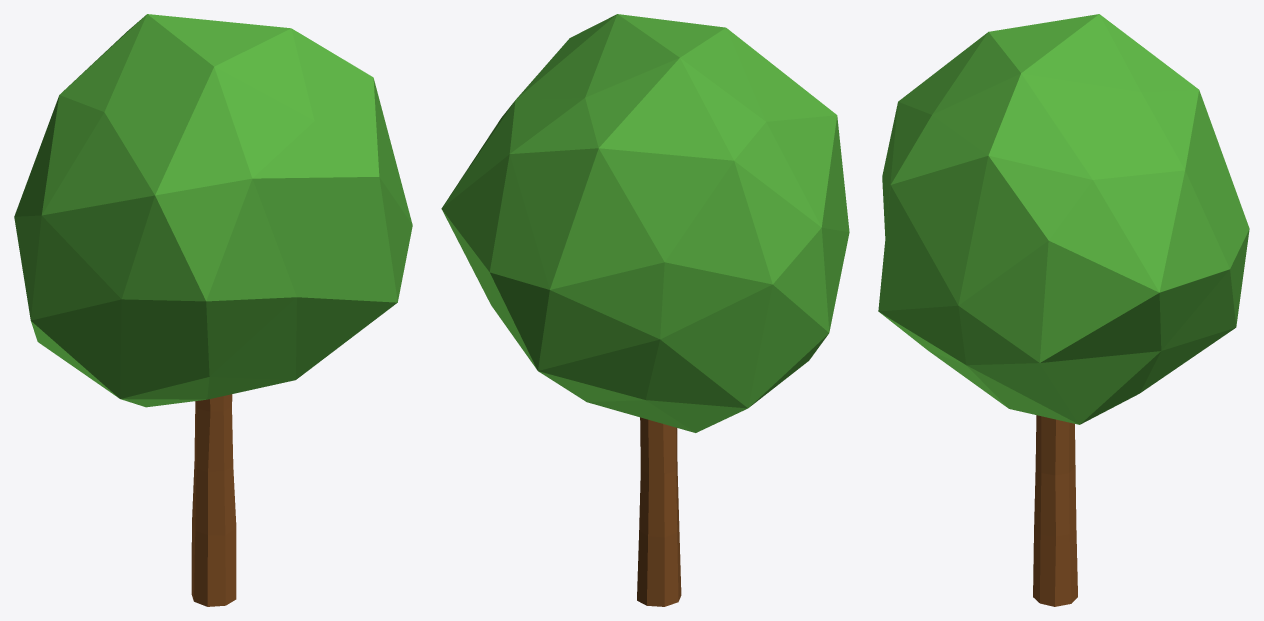
The model's file is tree1.fbx.
3 renders of one model, left to right at view 1: azimuth 30°, elevation 25°; view 2: azimuth 150°, elevation 25°; view 3: azimuth 270°, elevation 25°, orthographic. The views are drawn at different scales.
Visible parts, largest first — view 1: tree.001; view 2: tree.001; view 3: tree.001.
Boxes of the visible parts, box(x1,y1,x2,y2) form: tree.001: box(14, 14, 412, 606); tree.001: box(441, 14, 849, 606); tree.001: box(878, 14, 1249, 606).
Size of the model in its own units: 2127 by 1977 by 3306.
